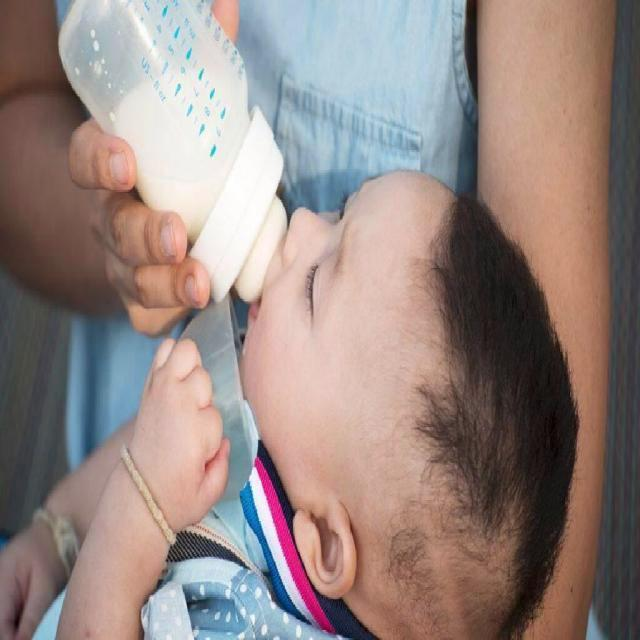child: (58, 2, 586, 638)
